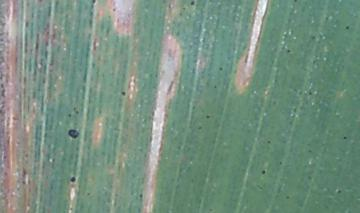tarspot: (66, 128, 80, 139), (260, 167, 268, 177), (68, 175, 77, 183), (72, 106, 80, 114), (285, 47, 292, 55), (217, 65, 225, 72), (265, 138, 273, 145), (306, 89, 313, 97), (137, 192, 144, 200), (111, 5, 118, 13), (204, 113, 211, 120), (196, 124, 203, 131), (85, 190, 92, 197), (341, 135, 349, 141), (310, 33, 316, 41), (189, 1, 196, 7), (344, 24, 351, 30), (335, 188, 342, 194), (67, 112, 73, 119), (120, 90, 126, 96), (284, 194, 290, 200), (278, 159, 283, 166), (212, 82, 217, 89), (91, 1, 97, 5), (292, 1, 299, 3)
